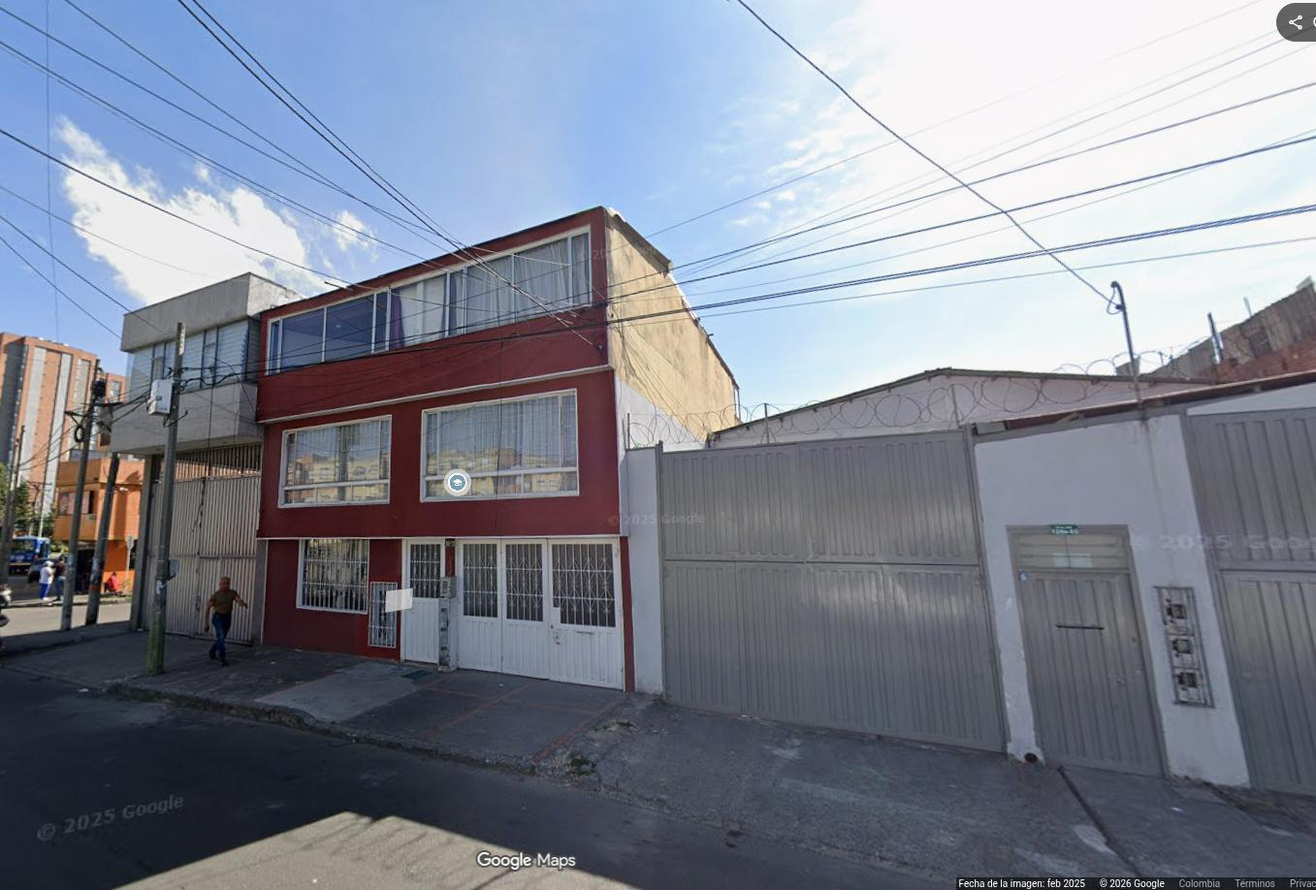casa: (620, 369, 1315, 789), (257, 207, 737, 687), (111, 273, 300, 643)
poste: (147, 322, 185, 674), (60, 392, 99, 630), (84, 455, 117, 624), (93, 360, 102, 383)
